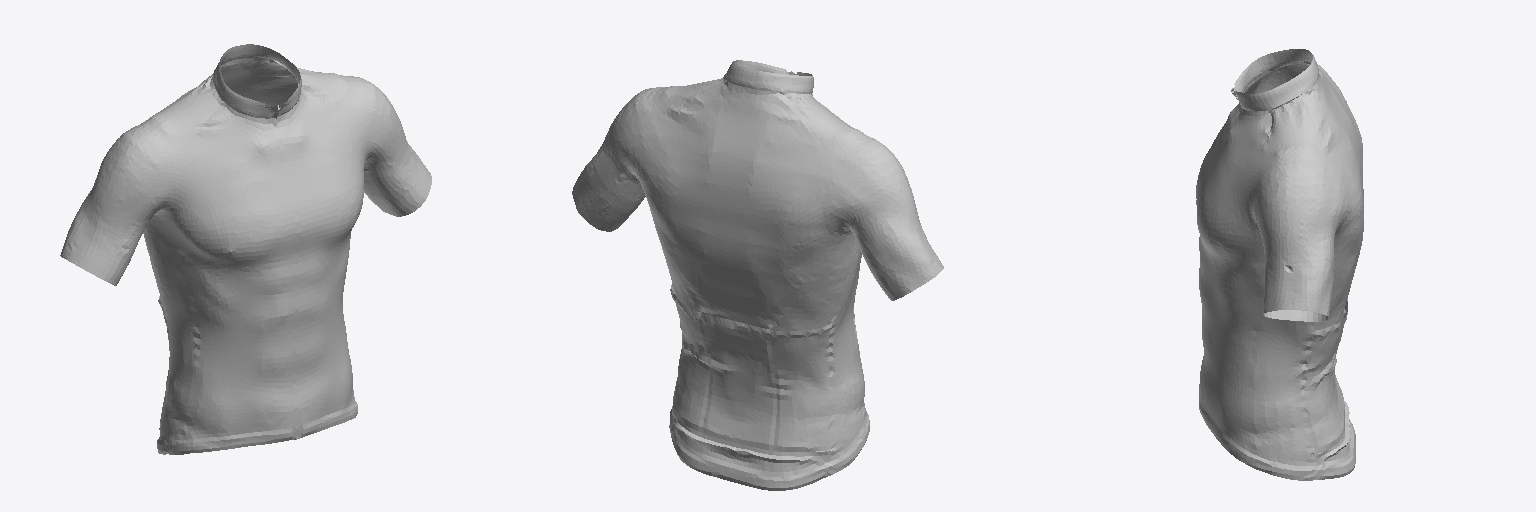
3 views of the same model, side by side, from view 1: azimuth 30°, elevation 25°; view 2: azimuth 150°, elevation 25°; view 3: azimuth 270°, elevation 25° (orthographic).
Parts seen in each view (by area): view 1: jersey_01; view 2: jersey_01; view 3: jersey_01.
Boxes of the visible parts, x1=… form: jersey_01: x1=60, y1=44, x2=431, y2=454; jersey_01: x1=572, y1=60, x2=943, y2=490; jersey_01: x1=1196, y1=49, x2=1363, y2=480.
Size of the model in its own units: 0.6342 by 0.6633 by 0.2543.